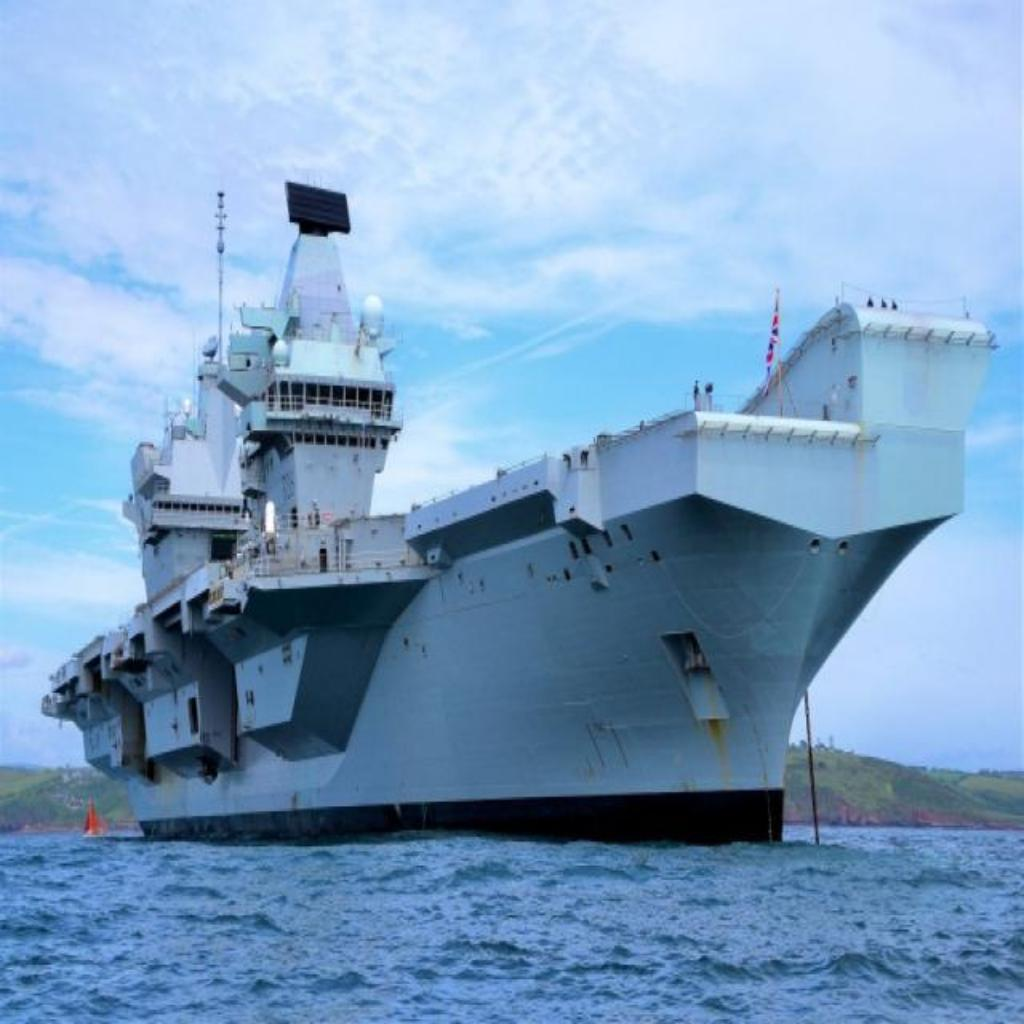Warship: (37, 166, 1003, 850)
